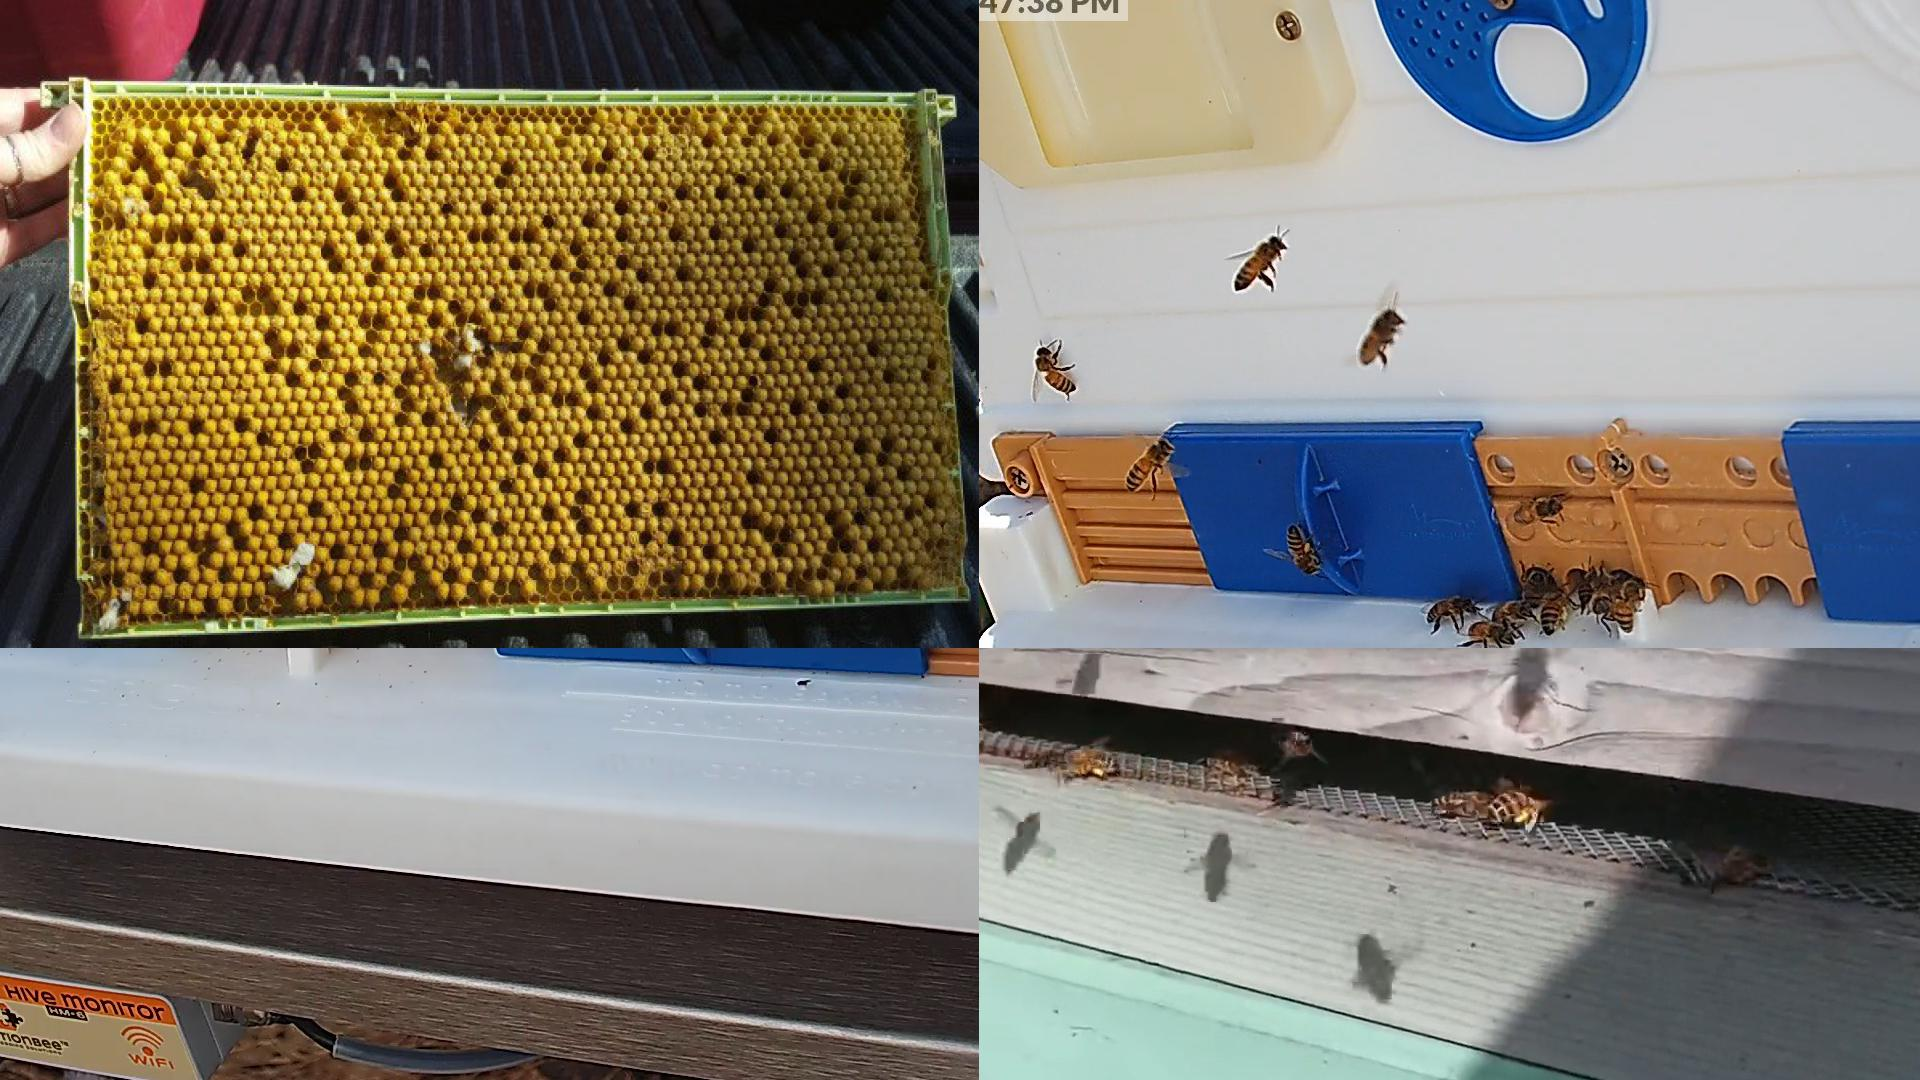bee: (1688, 855, 1763, 890), (1236, 237, 1284, 288), (1128, 438, 1171, 493), (1361, 310, 1401, 364), (1036, 348, 1077, 395), (1430, 790, 1497, 818), (1269, 724, 1311, 760), (1615, 580, 1640, 634), (1426, 597, 1476, 624), (1514, 498, 1563, 524), (1468, 623, 1515, 646), (1540, 591, 1564, 636), (1517, 574, 1553, 601), (1492, 600, 1536, 622), (1594, 580, 1613, 615), (1580, 575, 1596, 608)
pollenbee: (1066, 749, 1126, 783), (1486, 789, 1550, 820), (1287, 523, 1318, 575)
